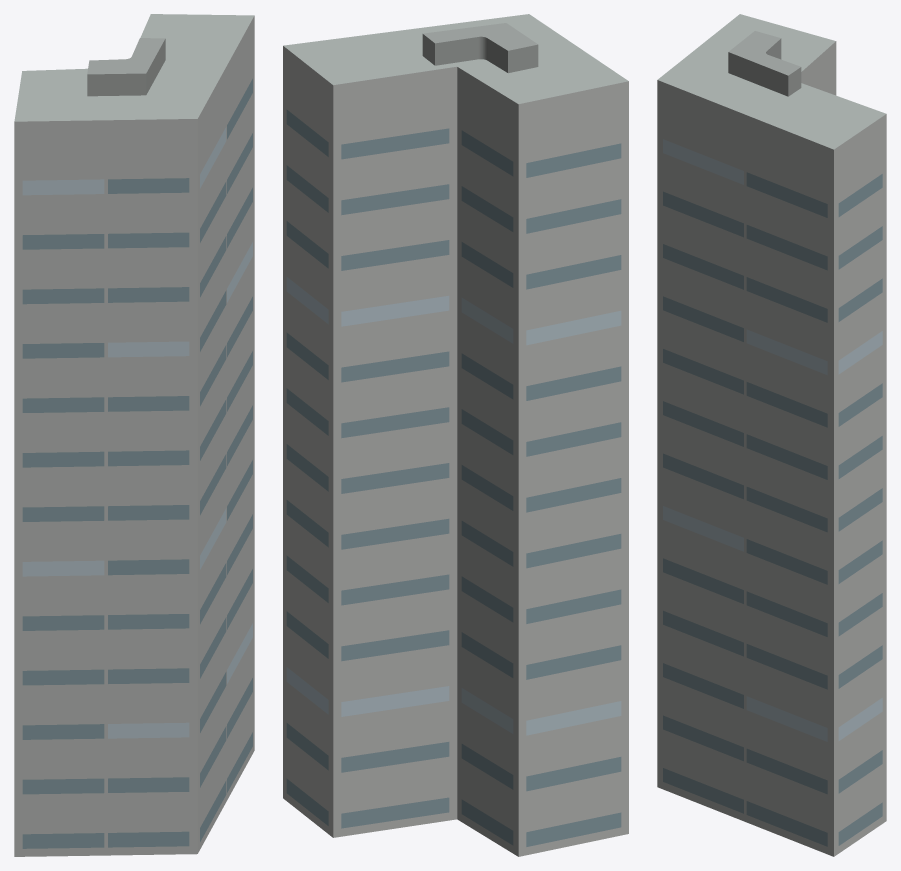
File: fallback-jamsil-ricenz-224.glb
3 views of the same model, side by side, from view 1: azimuth 30°, elevation 25°; view 2: azimuth 150°, elevation 25°; view 3: azimuth 270°, elevation 25° (orthographic). The views are drawn at different scales.
Parts seen in each view (by area): view 1: fallback-jamsil-ricenz-224; view 2: fallback-jamsil-ricenz-224; view 3: fallback-jamsil-ricenz-224.
Boxes of the visible parts, bbox=[...] form: fallback-jamsil-ricenz-224: bbox=[14, 14, 254, 856]; fallback-jamsil-ricenz-224: bbox=[283, 14, 628, 856]; fallback-jamsil-ricenz-224: bbox=[657, 14, 886, 856].
Size of the model in its own units: 33.16 by 83 by 23.68.
